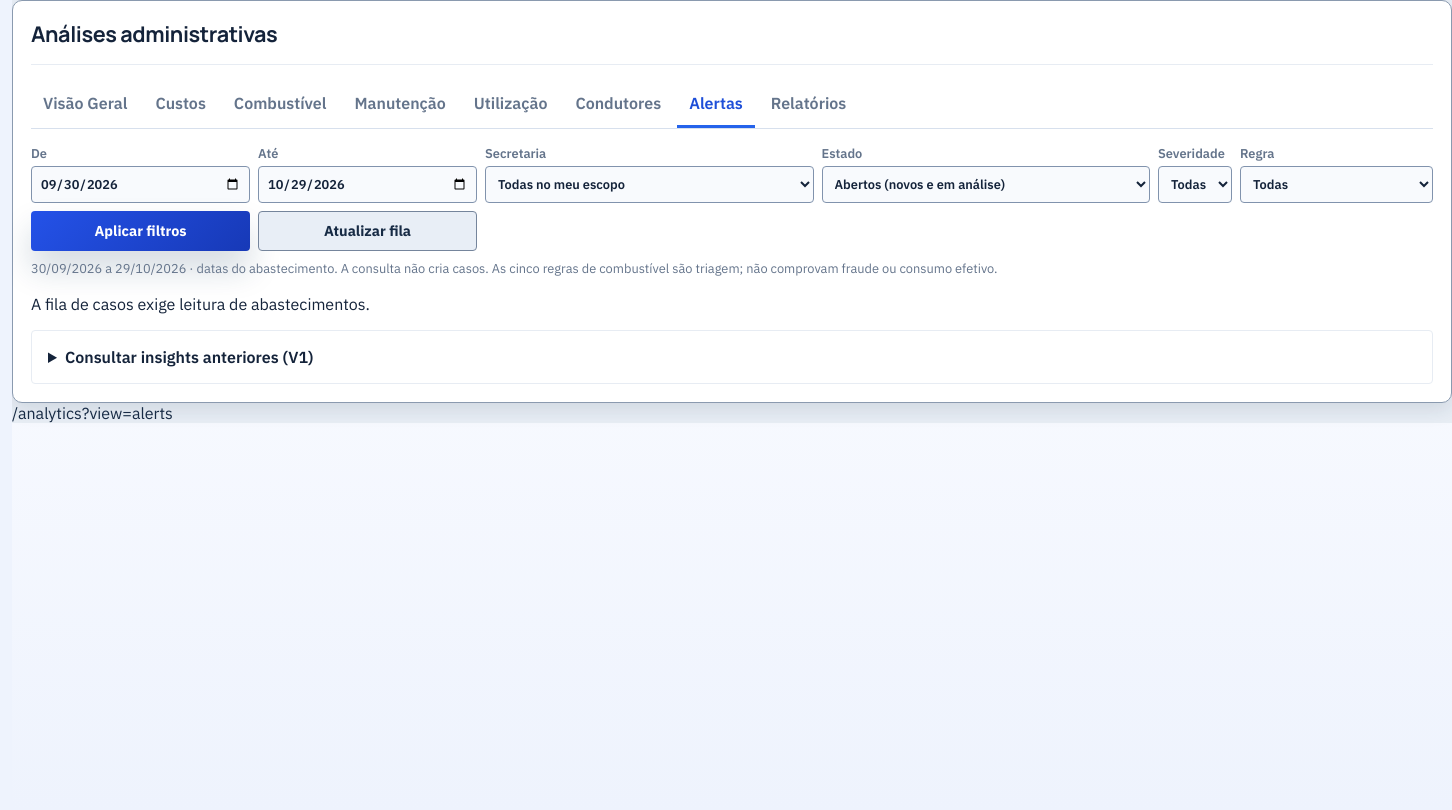
Test: Analytics — fundação V1 › não confunde falha parcial com vazio e repete somente a consulta que falhou
Click the heading "Consultar insights anteriores (V1)" at (189, 357), box [65,347,313,367]
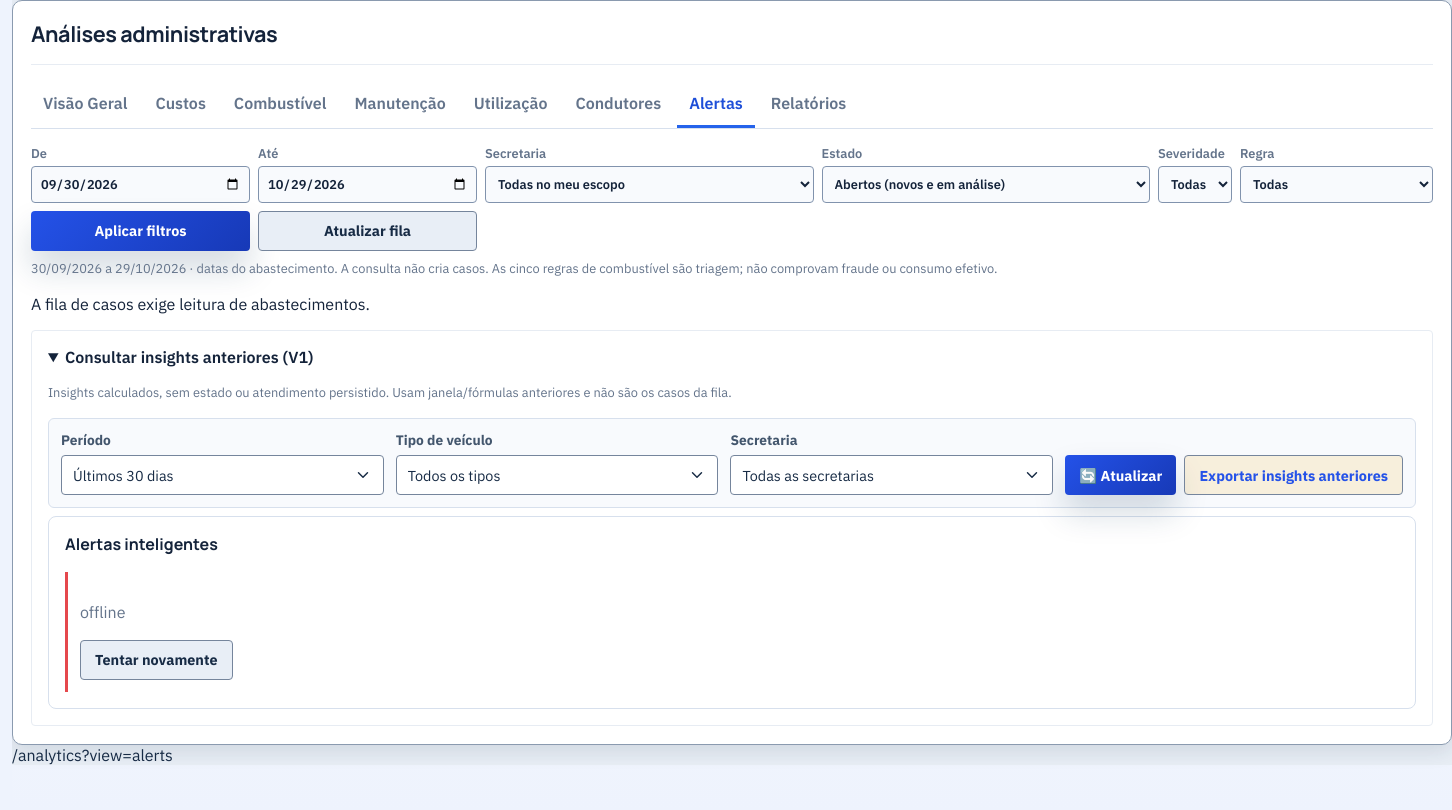
Expected: the text "Sem alertas no período selecionado." is not shown
Expected: the message "offline Tentar novamente" is shown, [65,572,1399,692]
Click the button "Tentar novamente" at (156, 660), box [80,640,232,680]
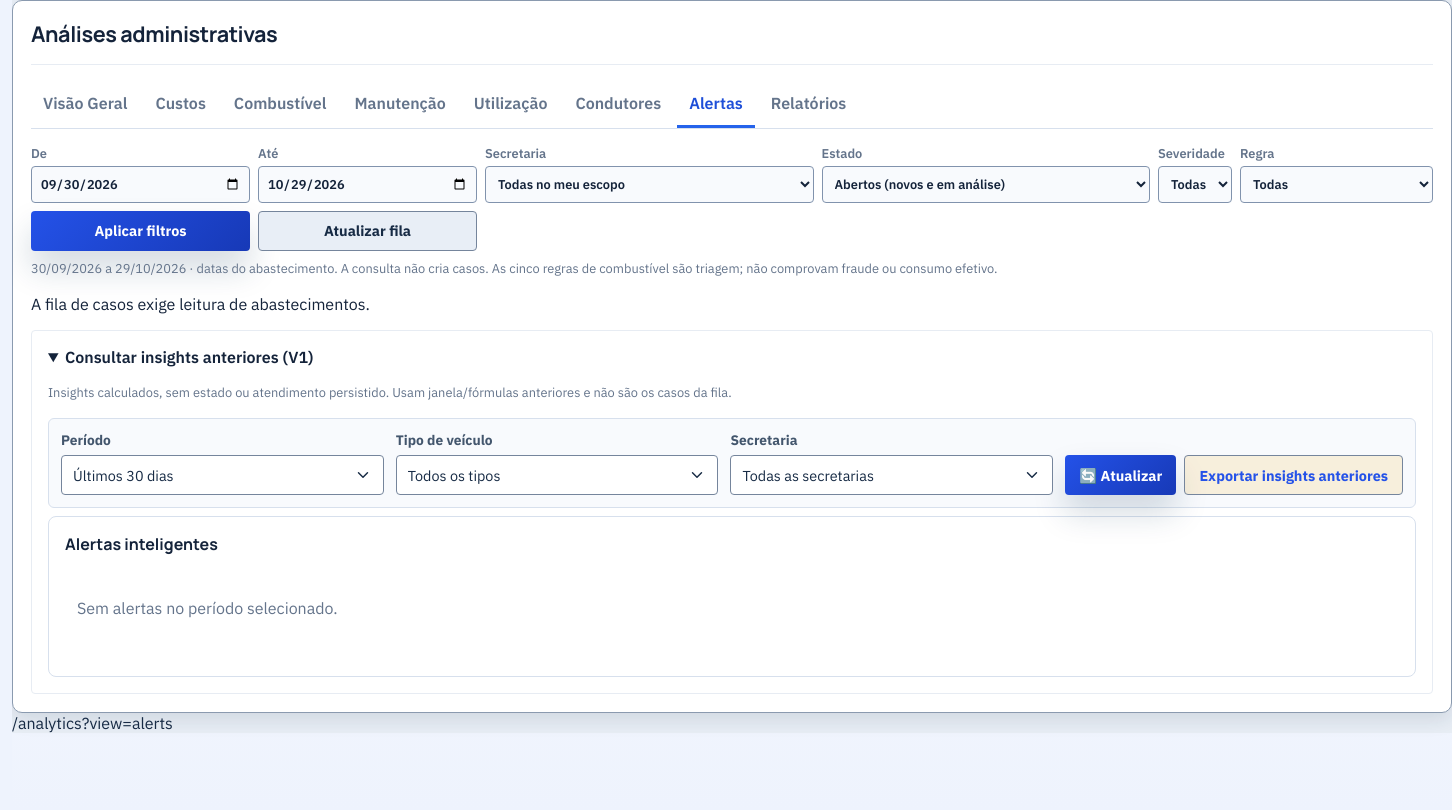
Expected: the text "Sem alertas no período selecionado." is shown, [77,598,338,618]
